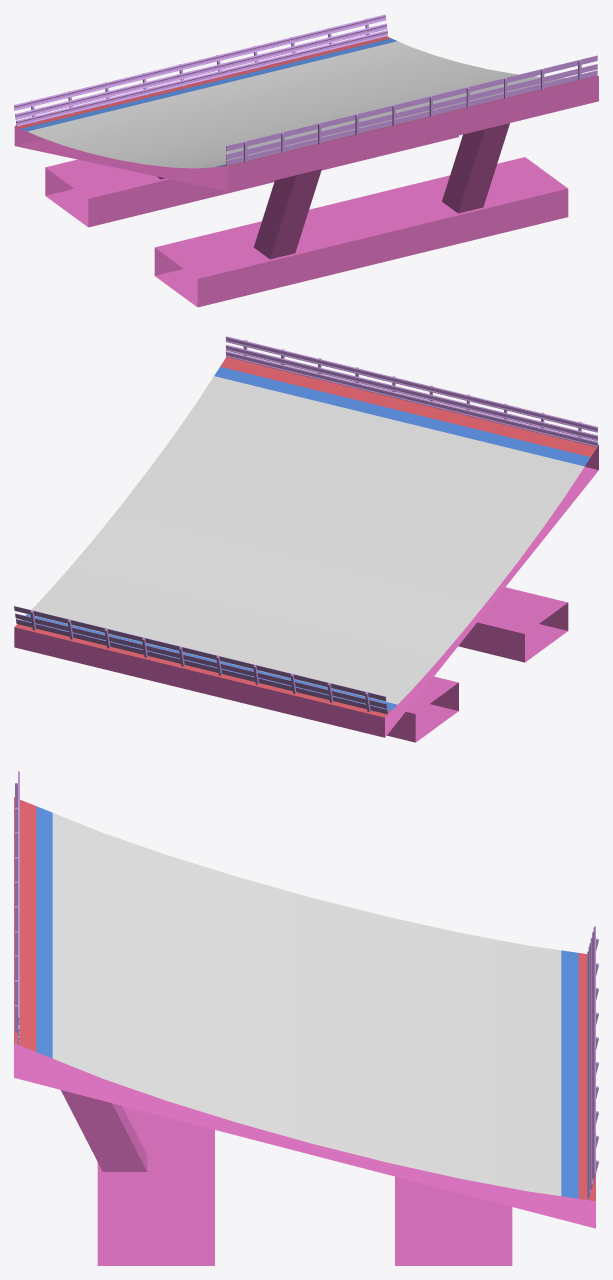
File: RoadBanked.fbx
3 renders of one model, top to bottom at view 1: azimuth 30°, elevation 25°; view 2: azimuth 150°, elevation 25°; view 3: azimuth 270°, elevation 25°, orthographic. The views are drawn at different scales.
Visible parts, largest first — view 1: RoadBanked, RaillingBanked; view 2: RoadBanked, RaillingBanked; view 3: RoadBanked, RaillingBanked.
Part boxes in pixels (x1=…): RoadBanked: x1=14, y1=36, x2=598, y2=307; RaillingBanked: x1=14, y1=14, x2=597, y2=166; RoadBanked: x1=14, y1=357, x2=598, y2=742; RaillingBanked: x1=14, y1=336, x2=597, y2=714; RoadBanked: x1=14, y1=797, x2=595, y2=1265; RaillingBanked: x1=15, y1=771, x2=598, y2=1199.
Size of the model in its own units: 2004 by 943 by 2011.
